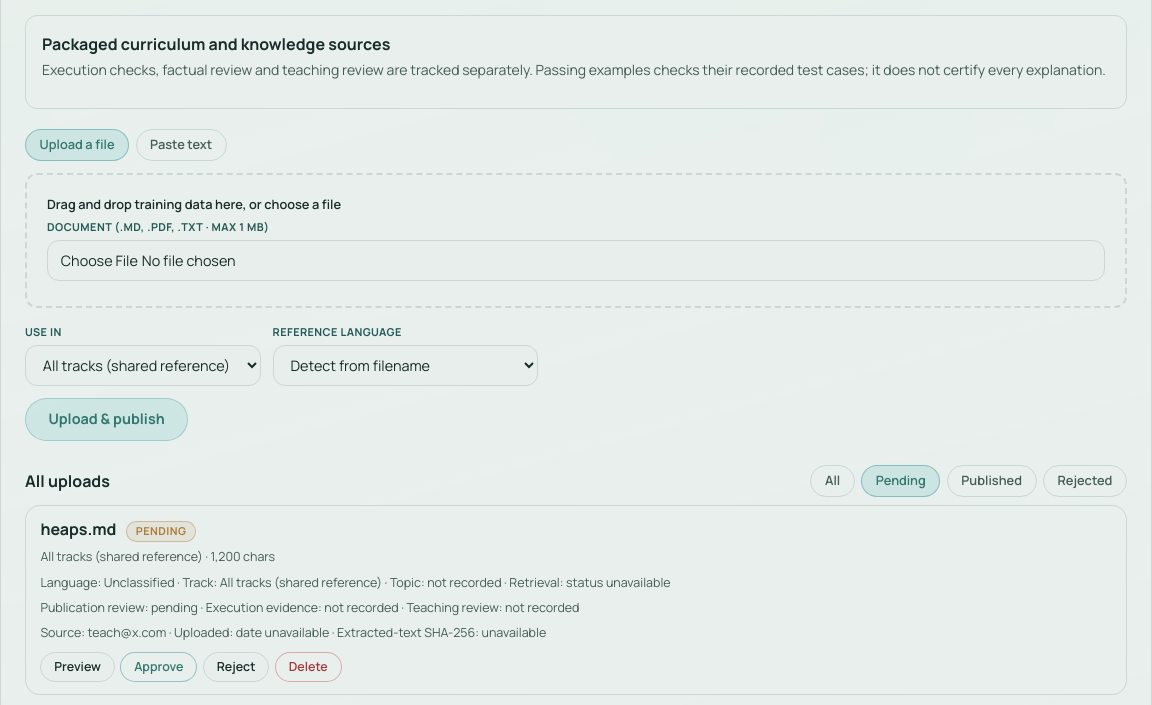
Scenario: KnowledgeUploadPanel — admin › approves a pending document and closes its open preview
(page scrolled)
Step 1. Click the button "Preview" → [78, 667], box [40,652,115,682]
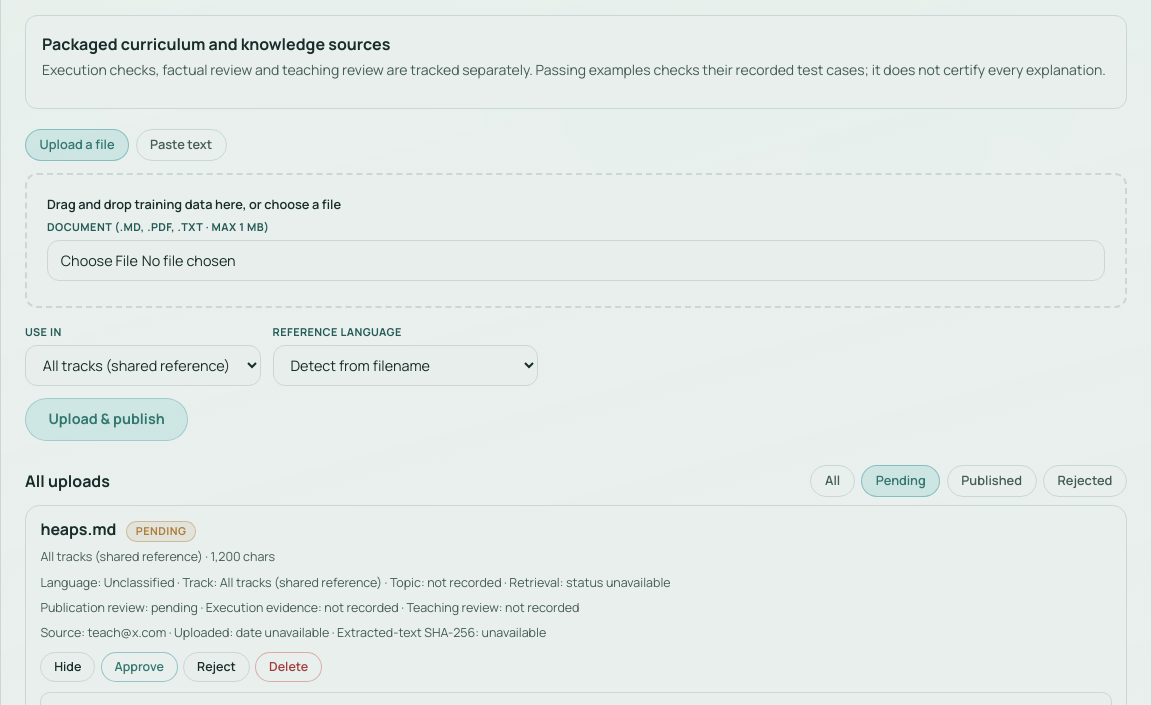
Step 2. Click the button "Approve" → [139, 667], box [101,652,178,682]
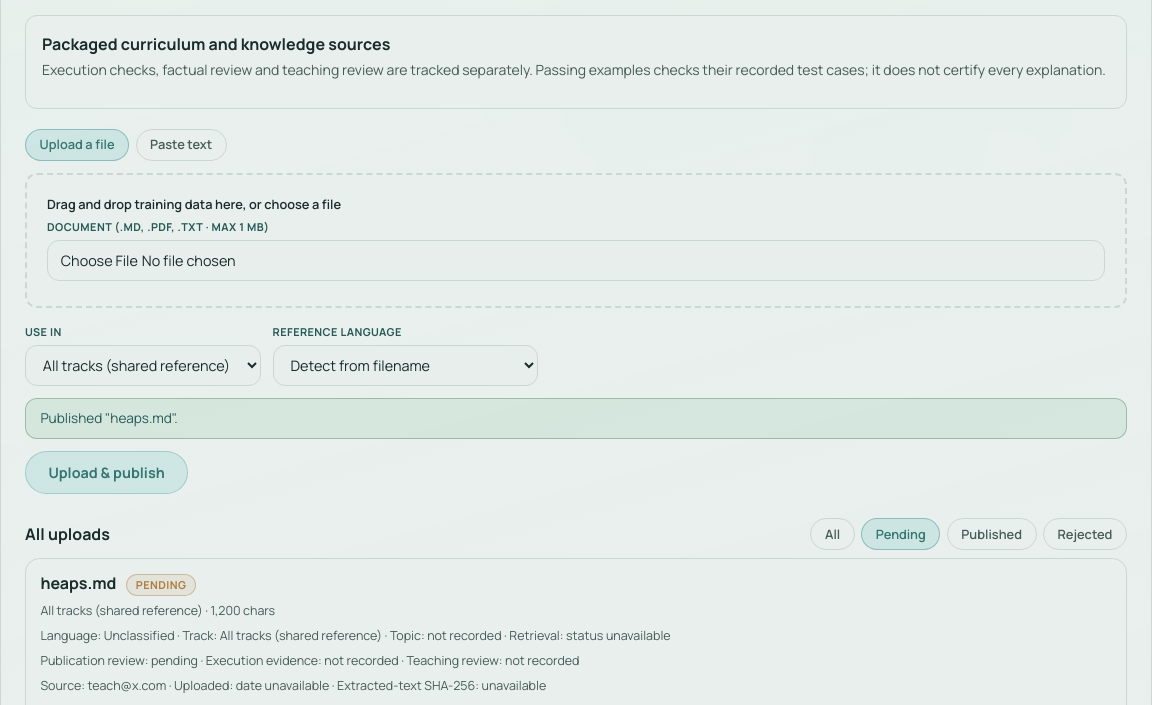
Expected: the message reads "Published \"heaps.md\".", [40,409,178,427]
